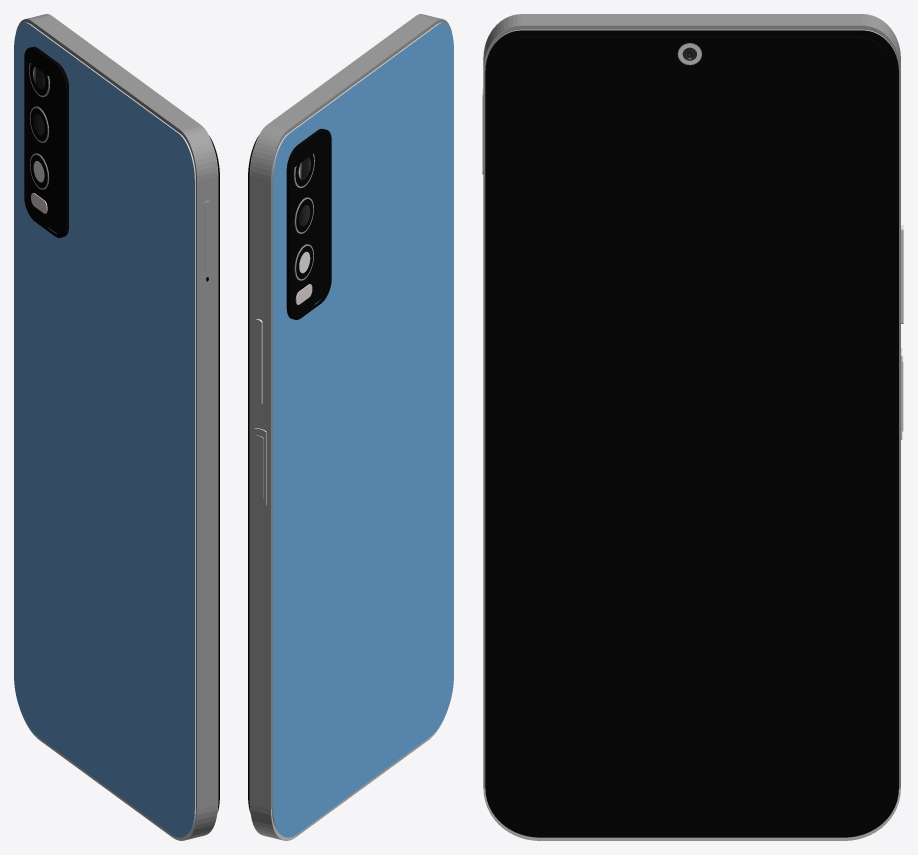
File: VivoBlue.fbx
3 views of the same model, side by side, from view 1: azimuth 30°, elevation 25°; view 2: azimuth 150°, elevation 25°; view 3: azimuth 270°, elevation 25° (orthographic). The views are drawn at different scales.
Visible parts, largest first — view 1: Cube.001; view 2: Cube.001; view 3: Cube.001.
Boxes of the visible parts, box(x1,y1,x2,y2) form: Cube.001: box(14, 14, 219, 840); Cube.001: box(248, 14, 453, 840); Cube.001: box(482, 14, 903, 840).
Bounding box in the file's own units: 391 × 8489 × 3973.
Materials: 13 (2 with a texture image).
